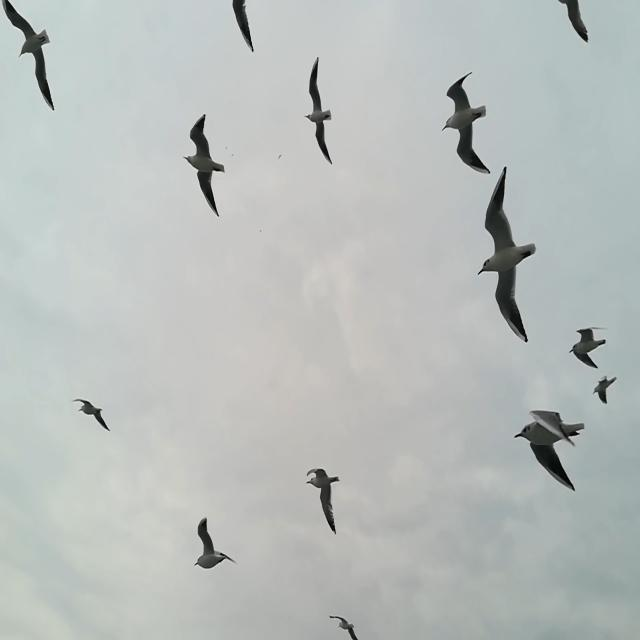bird: (476, 167, 537, 342), (1, 0, 56, 112), (514, 408, 586, 492), (441, 70, 491, 174), (182, 114, 225, 218), (304, 56, 333, 165), (305, 466, 341, 535), (193, 517, 239, 571), (569, 326, 607, 369), (558, 0, 588, 43), (72, 399, 110, 432), (232, 0, 254, 53), (326, 615, 360, 640), (592, 374, 617, 405), (278, 153, 282, 161)
